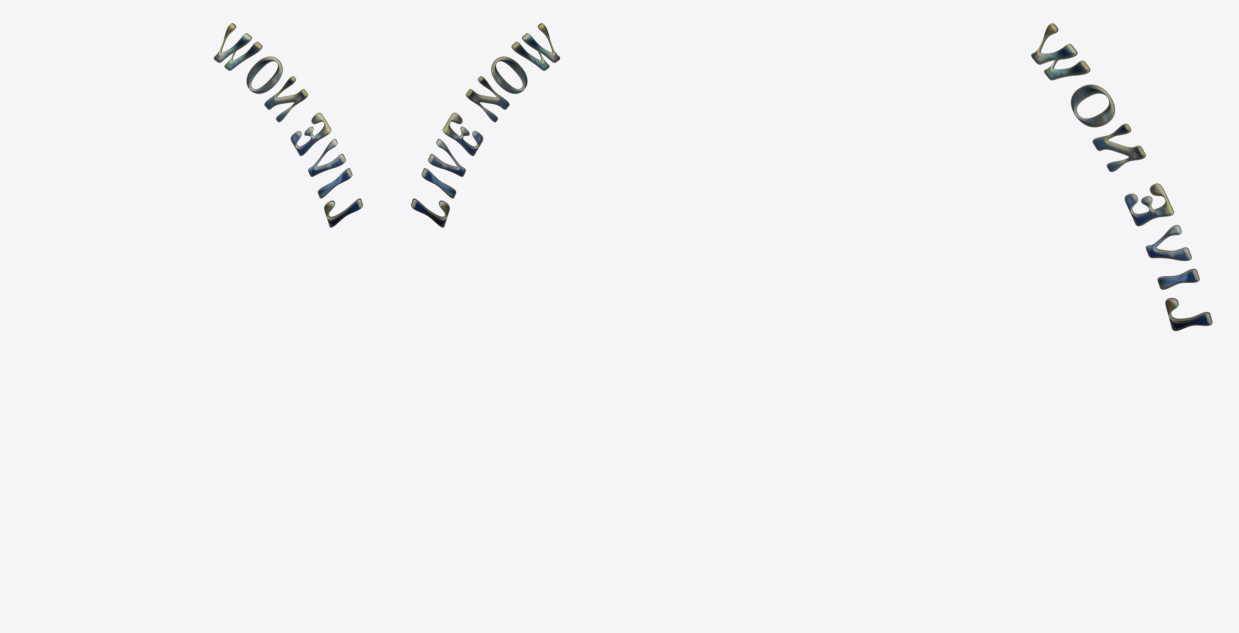
The model's file is portal_live_now.glb.
The picture shows the model from 3 angles, left to right: view 1: azimuth 30°, elevation 25°; view 2: azimuth 150°, elevation 25°; view 3: azimuth 330°, elevation 25°; orthographic projection. The views are drawn at different scales.
Visible parts, largest first — view 1: node_LiveNow; view 2: node_LiveNow; view 3: node_LiveNow.
Part boxes in pixels (bbox=[...]): node_LiveNow: bbox=[213, 23, 362, 227]; node_LiveNow: bbox=[411, 23, 560, 227]; node_LiveNow: bbox=[1031, 23, 1212, 331].
Bounding box in the file's own units: 3.05 × 4.48 × 0.01.
1 material, 1 textured.
